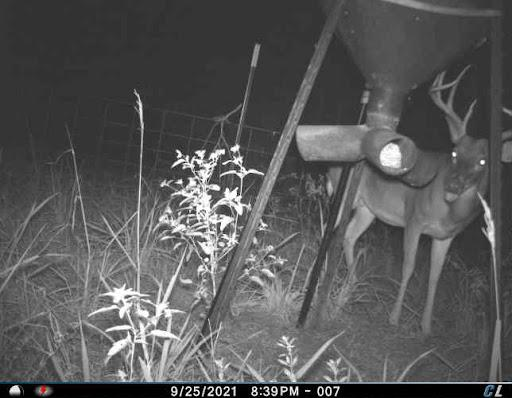Deer: (316, 62, 512, 340)
